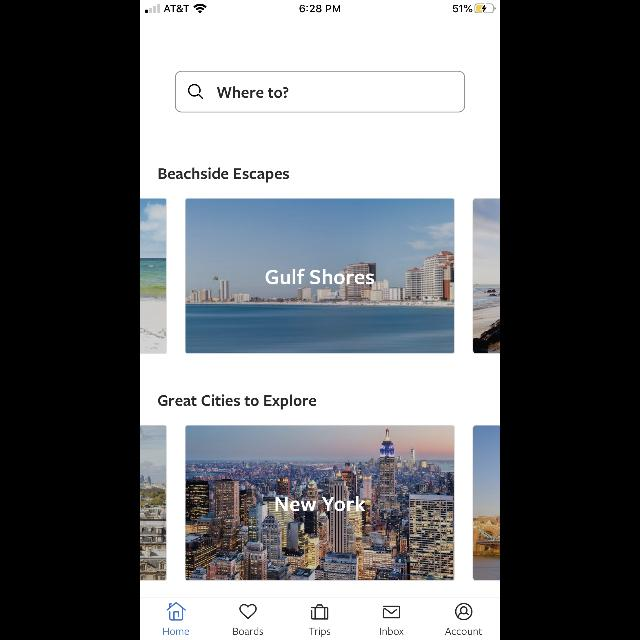icon: (167, 602, 186, 620), (456, 604, 472, 620), (312, 604, 328, 620), (240, 604, 256, 620), (188, 84, 204, 100), (382, 606, 400, 618)
image: (185, 425, 455, 581), (185, 198, 455, 354), (140, 425, 168, 581), (472, 198, 500, 354), (140, 198, 168, 354), (473, 425, 497, 581)
input: (175, 71, 465, 113)
text: (158, 394, 316, 410), (159, 168, 289, 182), (266, 270, 374, 284), (276, 496, 366, 510), (218, 86, 288, 98), (234, 627, 264, 635), (446, 628, 482, 634), (381, 627, 404, 635), (310, 628, 330, 636), (164, 628, 188, 634)
uppertaskbar: (140, 0, 500, 14)
